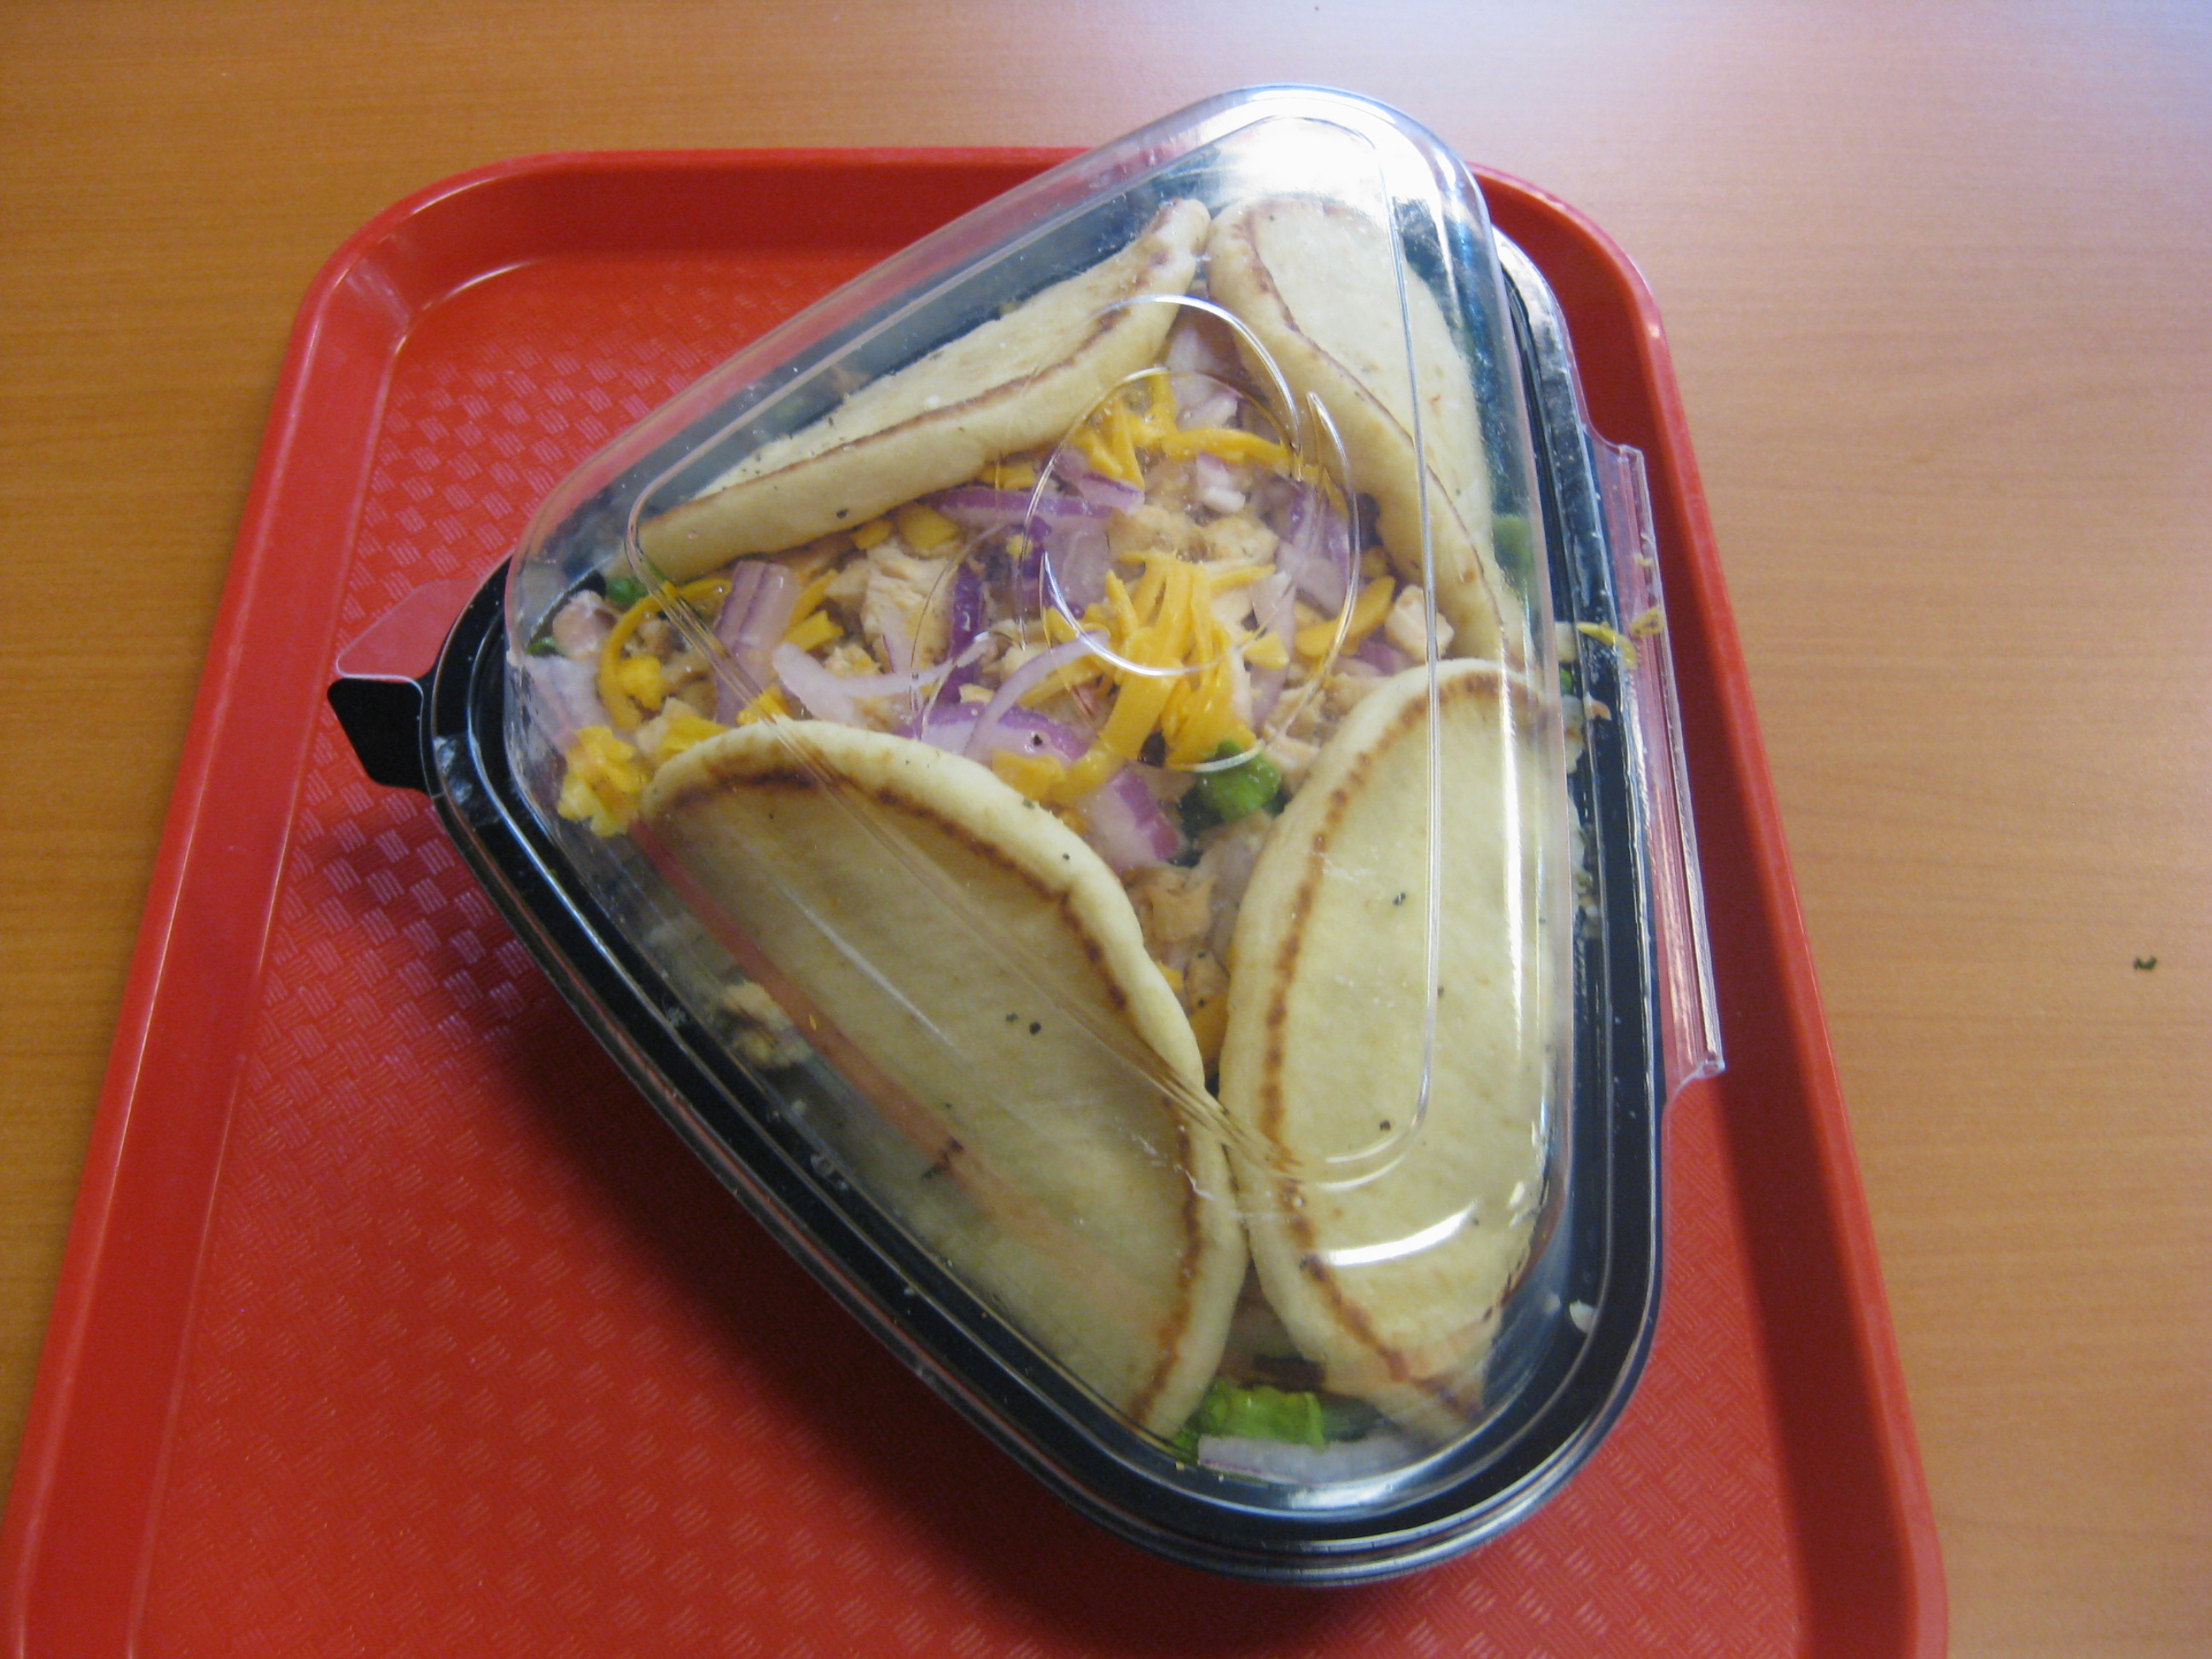burrito: (501, 57, 1680, 1423)
